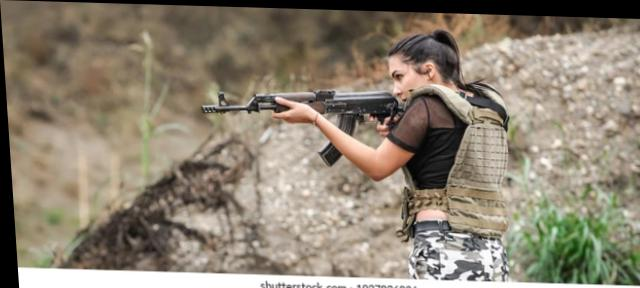other: (374, 30, 510, 280)
